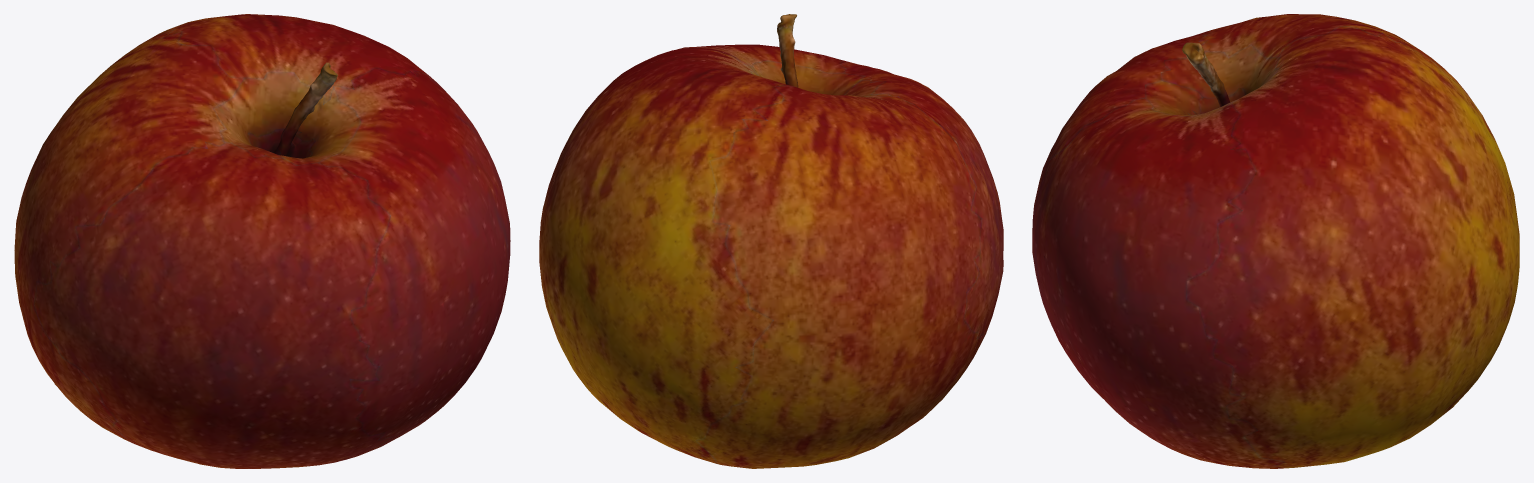
The model's file is food_apple_01.glb.
3 renders of one model, left to right at view 1: azimuth 30°, elevation 25°; view 2: azimuth 150°, elevation 25°; view 3: azimuth 270°, elevation 25°, orthographic. The views are drawn at different scales.
Visible parts, largest first — view 1: food_apple_01; view 2: food_apple_01; view 3: food_apple_01.
Part boxes in pixels (<box>): food_apple_01: <box>14,14,510,468</box>; food_apple_01: <box>539,14,1003,468</box>; food_apple_01: <box>1032,14,1519,468</box>.
Size of the model in its own units: 0.0976 by 0.0854 by 0.0959.
Materials: 1 (1 with a texture image).
